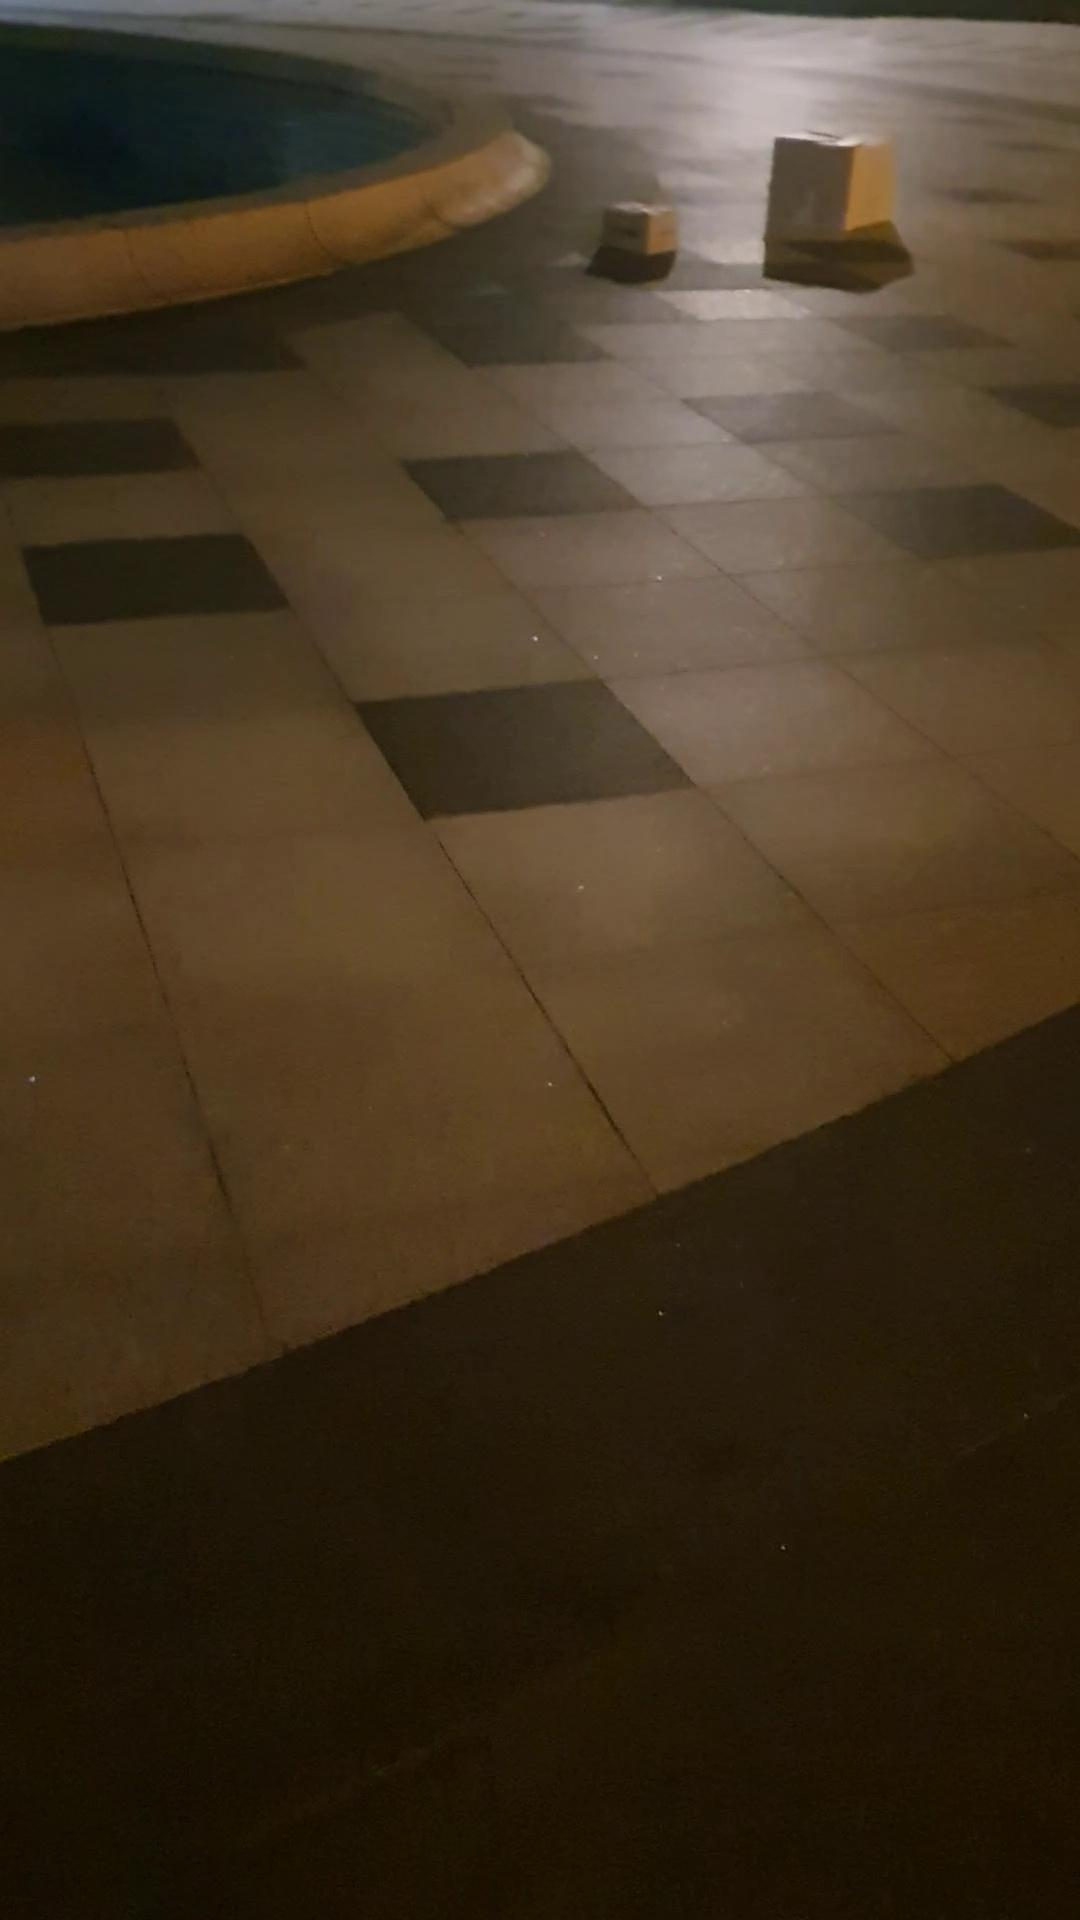Box: (758, 120, 902, 258), (593, 200, 682, 262)
